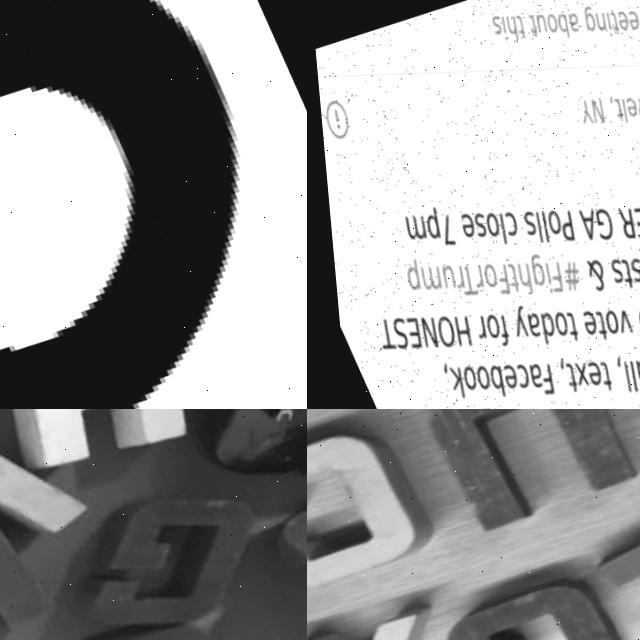3: (427, 209, 458, 247)
B: (265, 453, 307, 625)
C: (307, 409, 450, 615)
E: (582, 456, 640, 640)
G: (26, 450, 291, 640), (402, 528, 640, 640)
H: (0, 409, 219, 490)
L: (0, 409, 85, 596)
O: (15, 595, 248, 640)
U: (396, 409, 640, 547)
X: (307, 579, 466, 640)
